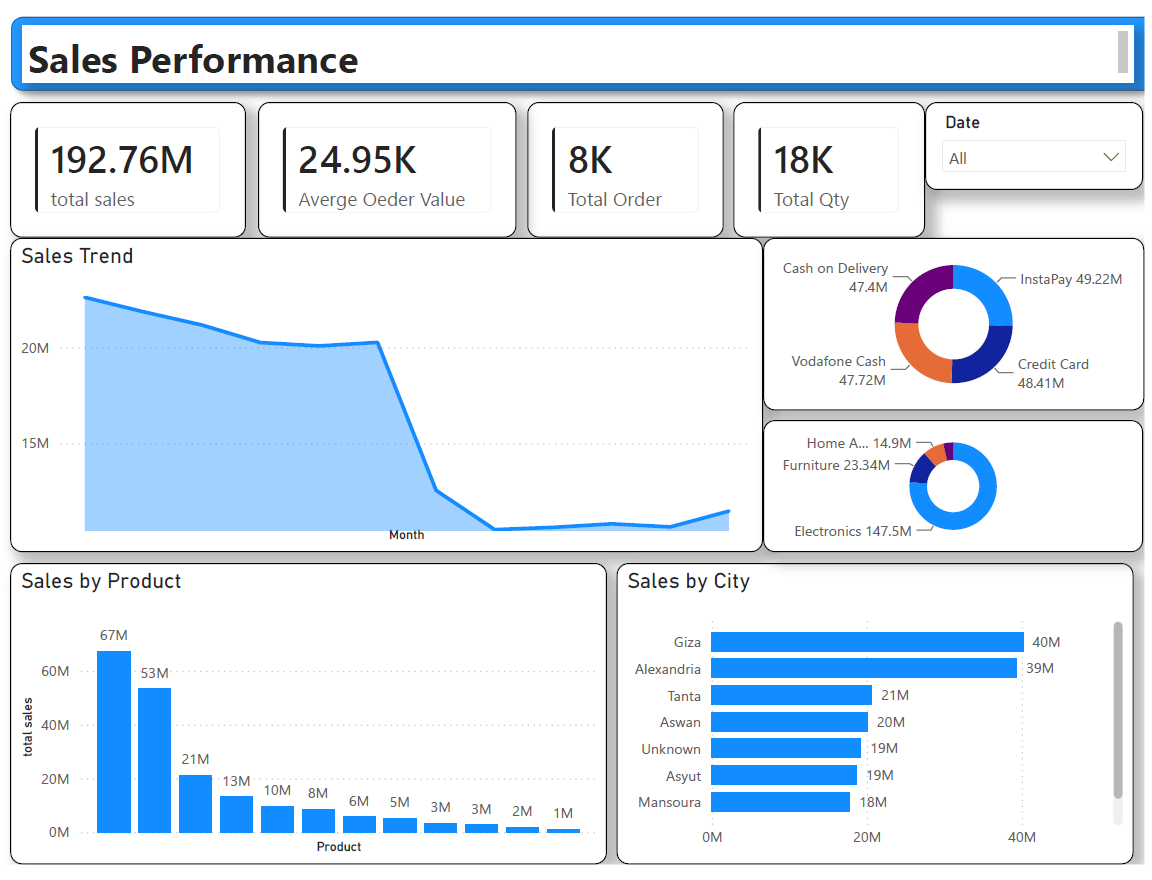

What the dashboard file says about the page in this screenshot:
{"tool":"powerbi","page":{"name":"Page 2","canvas":[960,720],"ordinal":1},"visuals":[{"type":"shape","box":[0,0,1279.9,80.3],"z":0},{"type":"textbox","box":[18.1,15.8,932.8,48.6],"z":2},{"type":"cardVisual","title":"Total sales","fields":{"Data":["Raw_Sales_Data.total sales"]},"box":[7.9,80.3,197.9,114.2],"z":3},{"type":"cardVisual","fields":{"Data":["Raw_Sales_Data.Total Order"]},"box":[442.1,80.3,165.1,114.2],"z":4},{"type":"cardVisual","fields":{"Data":["Raw_Sales_Data.Total Qty"]},"box":[615.1,80.3,160.6,114.2],"z":5},{"type":"cardVisual","fields":{"Data":["Raw_Sales_Data.Averge Oeder Value"]},"box":[216,80.3,217.1,114.2],"z":6},{"type":"stackedAreaChart","title":"Sales Trend","fields":{"Category":["Raw_Sales_Data.Date.Variation.Date Hierarchy.Month"],"Y":["Raw_Sales_Data.total sales"]},"box":[7.9,194.5,632,263.4],"z":7},{"type":"columnChart","title":"Sales by Product","fields":{"Category":["Raw_Sales_Data.Product"],"Y":["Raw_Sales_Data.total sales"]},"box":[7.9,467,500.9,253.3],"z":8},{"type":"barChart","title":"Sales by City","fields":{"Category":["Raw_Sales_Data.City"],"Y":["Raw_Sales_Data.total sales"]},"box":[516.7,467,434.2,253.3],"z":9},{"type":"donutChart","fields":{"Category":["Raw_Sales_Data.Payment_Method"],"Y":["Raw_Sales_Data.total sales"]},"box":[640,194.5,320,144.7],"z":10},{"type":"donutChart","fields":{"Category":["Raw_Sales_Data.Category"],"Y":["Raw_Sales_Data.total sales"]},"box":[640,347.1,318.8,110.8],"z":11},{"type":"slicer","fields":{"Values":["Raw_Sales_Data.Date"]},"box":[775.6,80.3,183.2,73.5],"z":12}]}

Visuals, with their boxes in screenshot pixels (x1, y1, x2, y2), scaled from the page's 960x720 canvas onto the 1152x880 screenshot:
shape: [0,0,1151,98]
textbox: [22,19,1141,79]
"Total sales" cardVisual: [9,98,247,238]
cardVisual - Raw_Sales_Data.Total Order: [531,98,729,238]
cardVisual - Raw_Sales_Data.Total Qty: [738,98,931,238]
cardVisual - Raw_Sales_Data.Averge Oeder Value: [259,98,520,238]
"Sales Trend" stackedAreaChart: [9,238,768,560]
"Sales by Product" columnChart: [9,571,611,879]
"Sales by City" barChart: [620,571,1141,879]
donutChart - Raw_Sales_Data.Payment_Method x Raw_Sales_Data.total sales: [768,238,1151,415]
donutChart - Raw_Sales_Data.Category x Raw_Sales_Data.total sales: [768,424,1151,560]
slicer - Raw_Sales_Data.Date: [931,98,1151,188]
